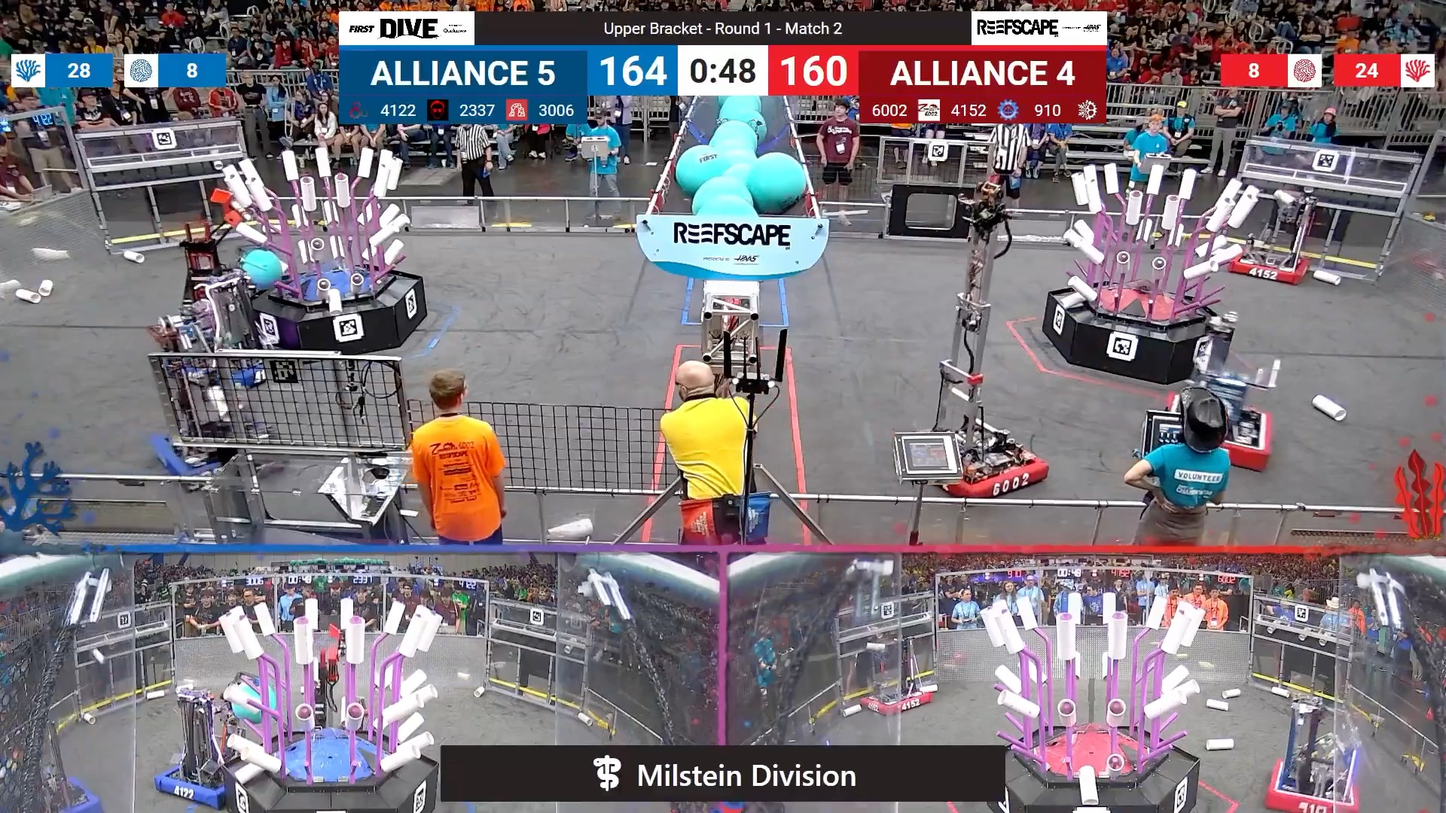bumpers: (895, 431, 1054, 501), (1151, 391, 1277, 474), (140, 427, 287, 487), (1261, 754, 1364, 812), (162, 343, 278, 391), (148, 756, 254, 808), (0, 769, 102, 812), (1218, 248, 1317, 288), (854, 684, 938, 717)
